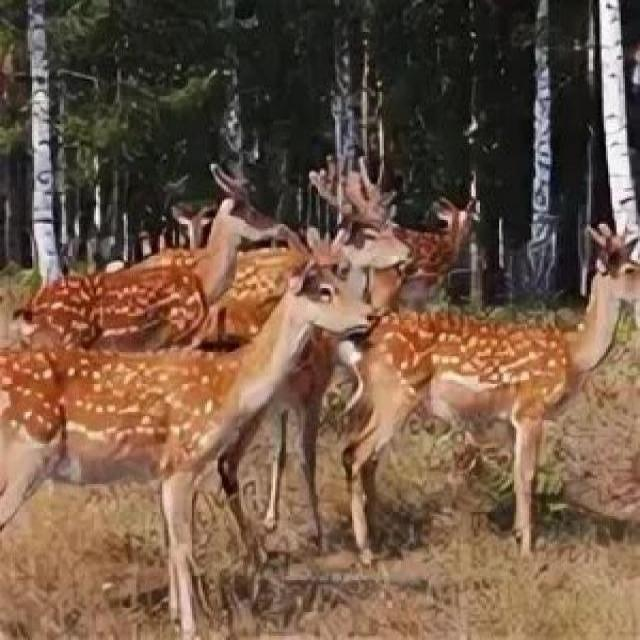deer: (0, 243, 380, 564), (322, 245, 640, 538), (162, 168, 506, 396), (0, 183, 282, 422)
